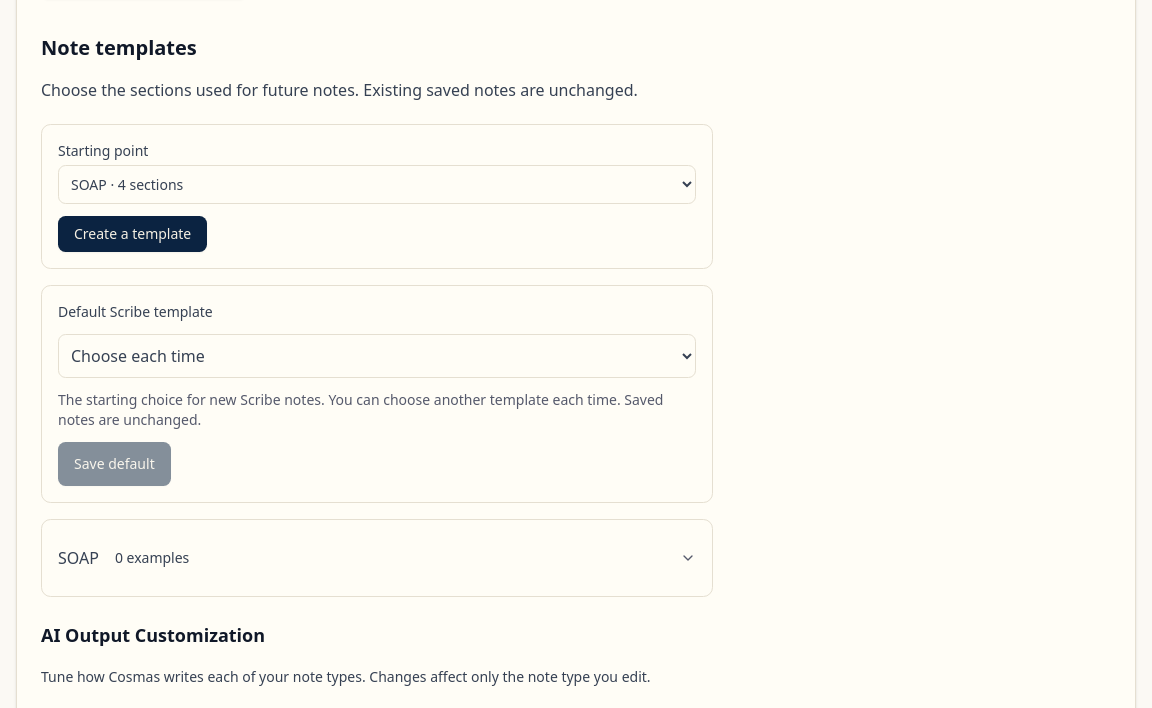
Test case: settings layout › submits the default template independently of the example upload form
The image size is (1152, 708).
(page scrolled)
Select "SOAP" in the dropdown labelled "Default Scribe template" at [377, 356], box [58,334,696,378]
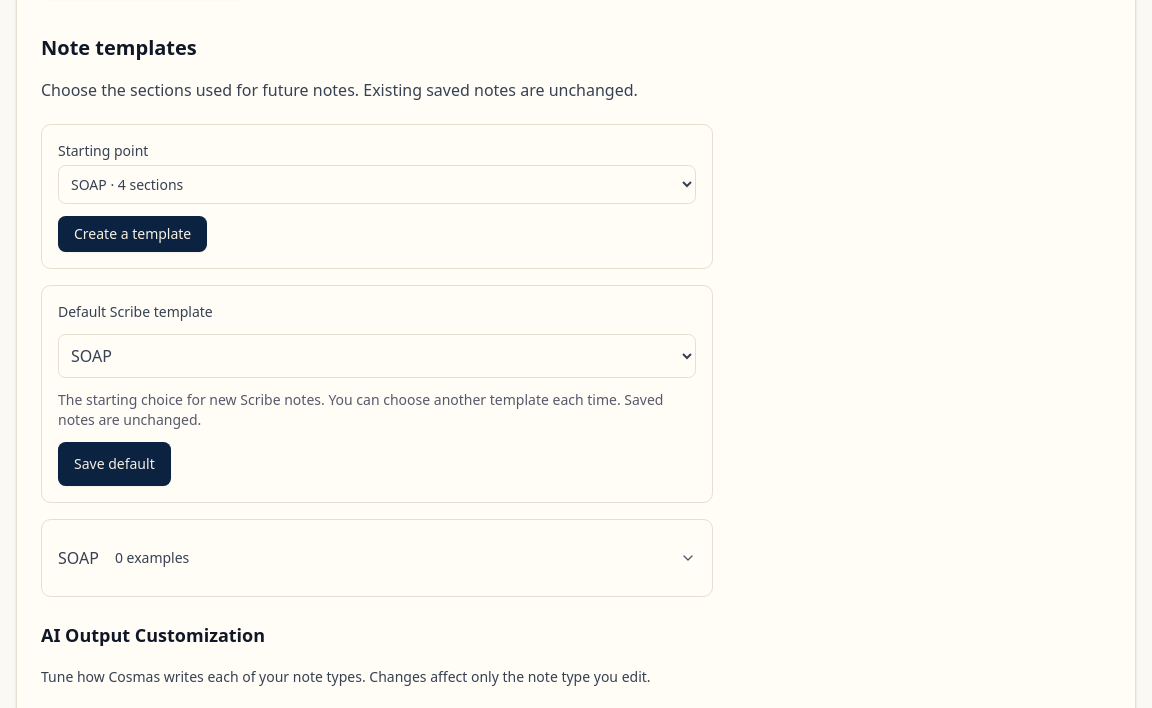
Click the button "Save default".
click(114, 464)  # box [58,442,171,486]
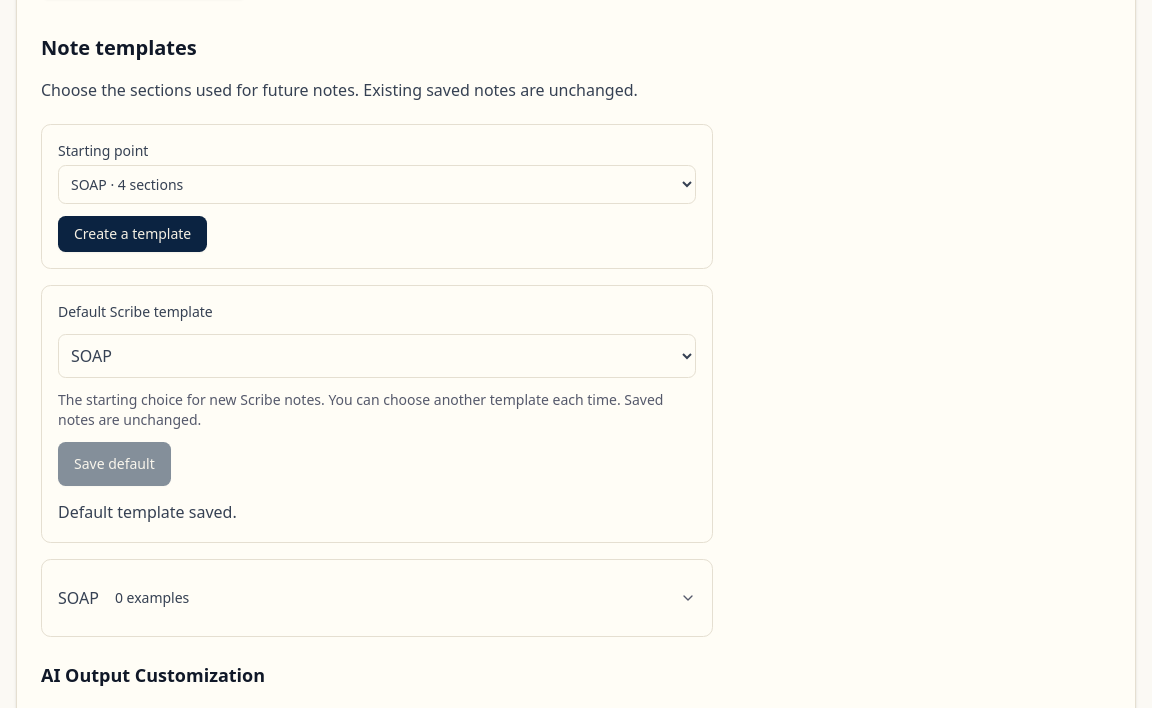
expect the text "Default template saved." is shown: met, box [58,501,237,523]
